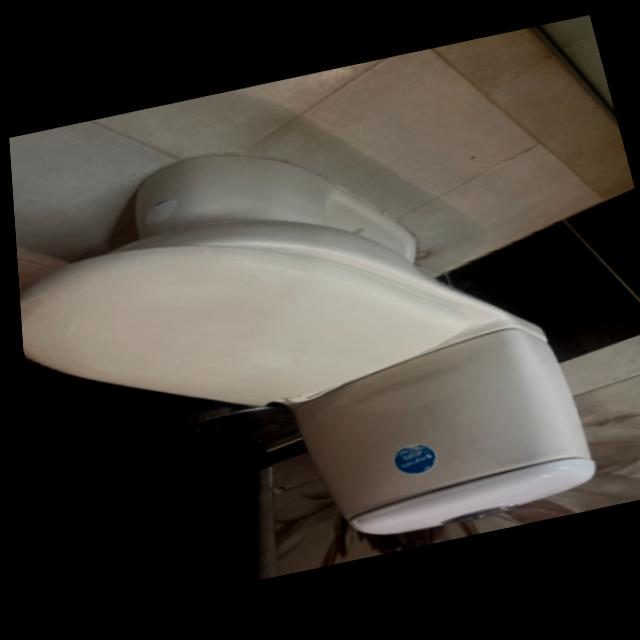toilet: (5, 94, 601, 605)
